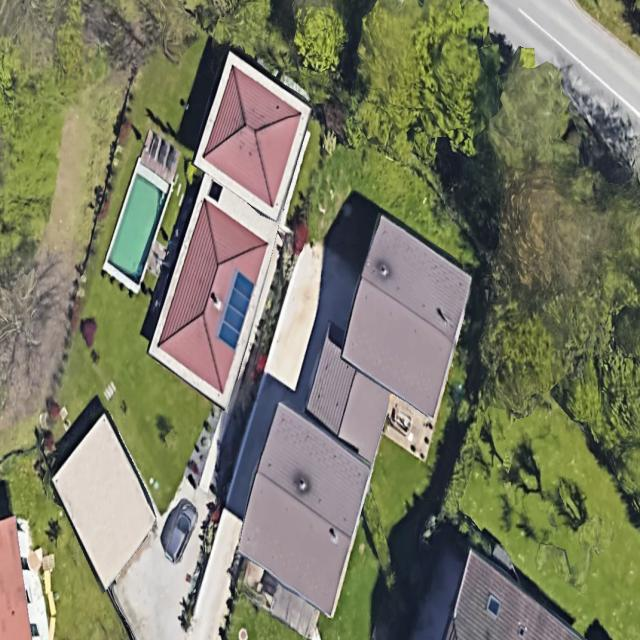maison: (131, 51, 320, 414), (223, 401, 382, 616), (326, 214, 486, 419), (446, 549, 582, 639), (0, 515, 48, 639)
